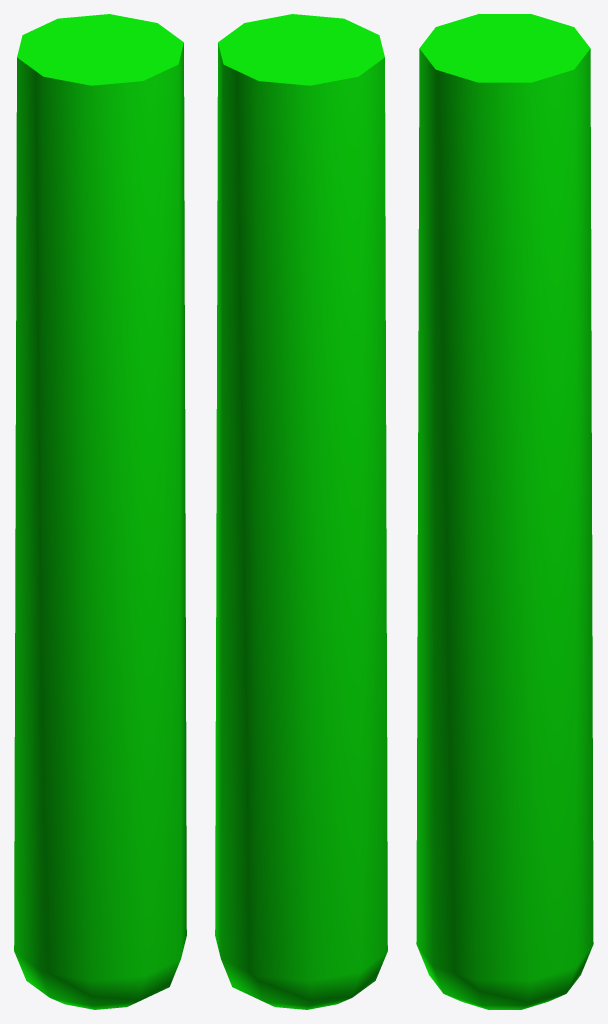
The model's file is Set_08_Tubes_Liquid_01.fbx.
3 views of the same model, side by side, from view 1: azimuth 30°, elevation 25°; view 2: azimuth 150°, elevation 25°; view 3: azimuth 270°, elevation 25° (orthographic).
Parts seen in each view (by area): view 1: Set_08_Tubes_Liquid_01; view 2: Set_08_Tubes_Liquid_01; view 3: Set_08_Tubes_Liquid_01.
Boxes of the visible parts, left/top/right/bottom form: Set_08_Tubes_Liquid_01: left=14, top=14, right=186, bottom=1009; Set_08_Tubes_Liquid_01: left=215, top=14, right=387, bottom=1009; Set_08_Tubes_Liquid_01: left=416, top=14, right=593, bottom=1009.
Bounding box in the file's own units: 2.35 × 14.75 × 2.48.
